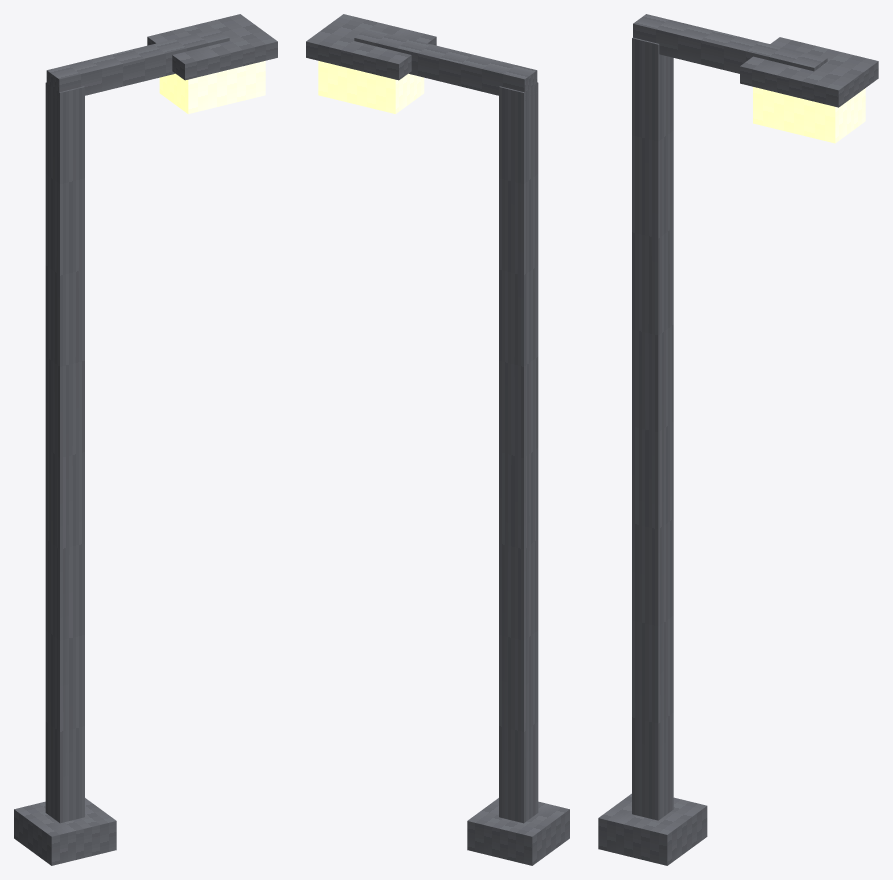
The model's file is pixel-modern-city-street-street-lamp-728c9b5b__29034.glb.
The picture shows the model from 3 angles, left to right: view 1: azimuth 30°, elevation 25°; view 2: azimuth 150°, elevation 25°; view 3: azimuth 330°, elevation 25°; orthographic projection. The views are drawn at different scales.
Parts seen in each view (by area): view 1: street-lamp; view 2: street-lamp; view 3: street-lamp.
Part boxes in pixels (left/top/right/bottom): street-lamp: left=14, top=14, right=277, bottom=865; street-lamp: left=306, top=14, right=569, bottom=865; street-lamp: left=598, top=14, right=878, bottom=865.
Size of the model in its own units: 1.46 by 4.76 by 0.4201.
Materials: 2 (2 with a texture image).
